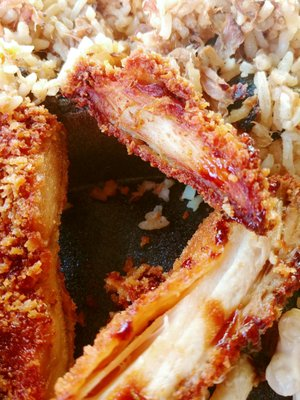soup: (7, 0, 300, 398)
